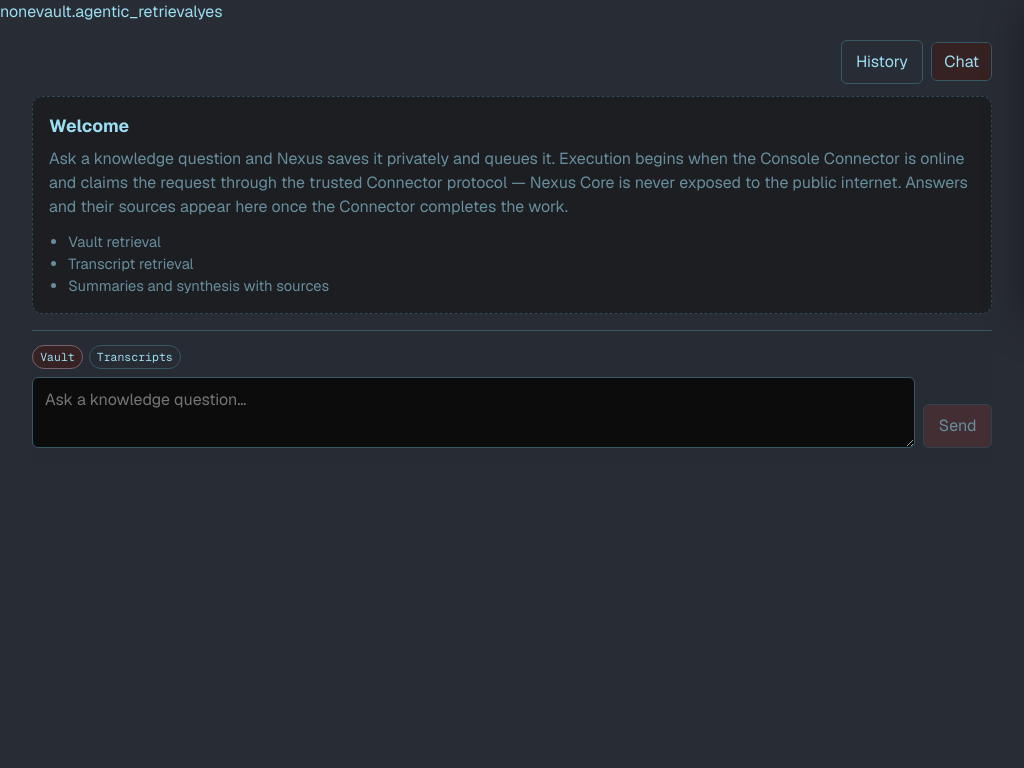
Scenario: Nexus Chat session selection persistence › updates persistence when the user selects another conversation or tool
Expected: the text with test id "ready" reads "yes", 197,1 -> 222,22
Click the button "History".
click(882, 62)  # box 840,40 -> 923,84
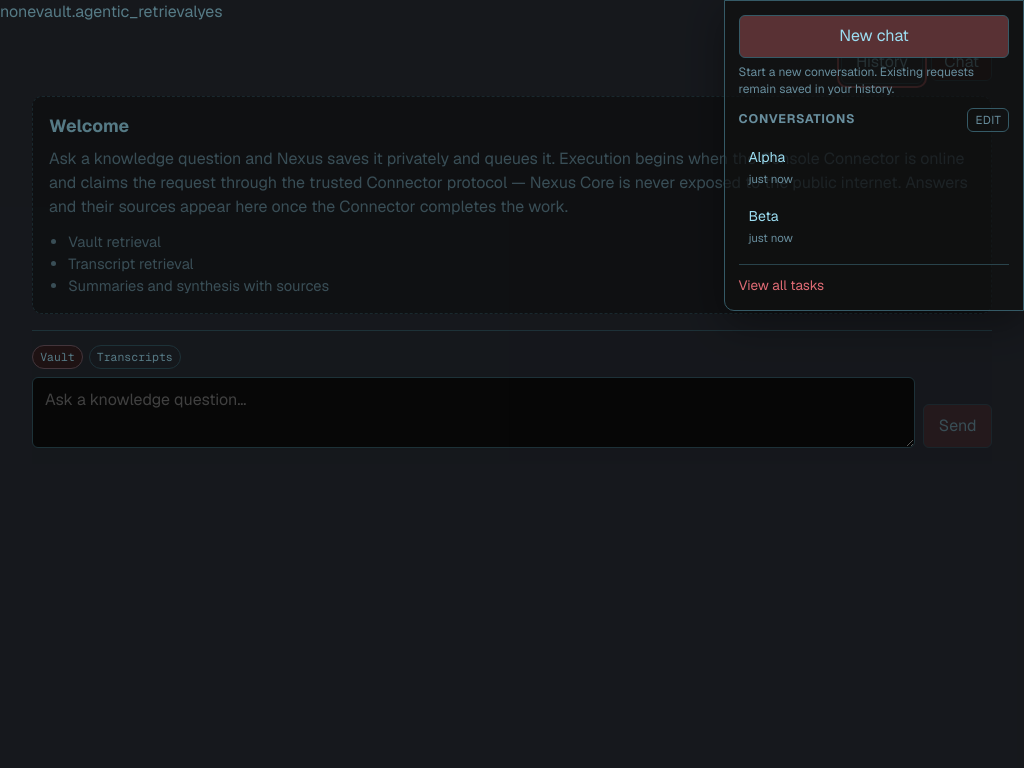
Click the button "Beta just now".
click(763, 216)  # box 739,199 -> 1009,253
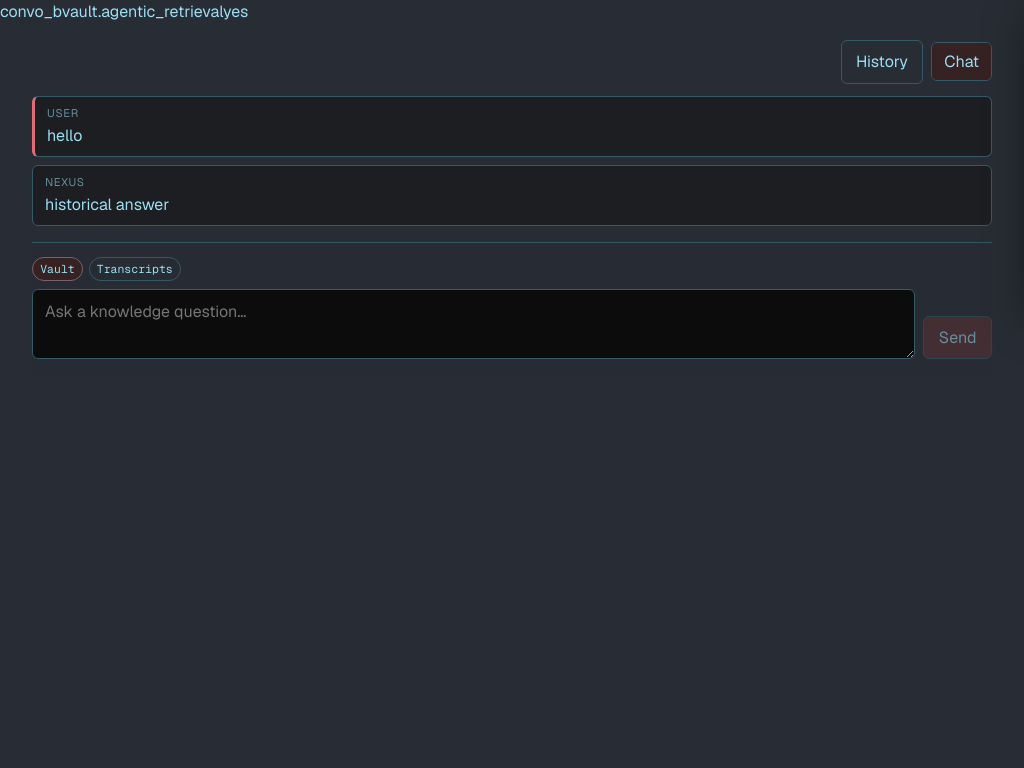
Expected: the text "convo_b" is shown, 0,1 -> 62,22
Click the button "Transcripts".
click(135, 269)  # box 88,257 -> 181,281
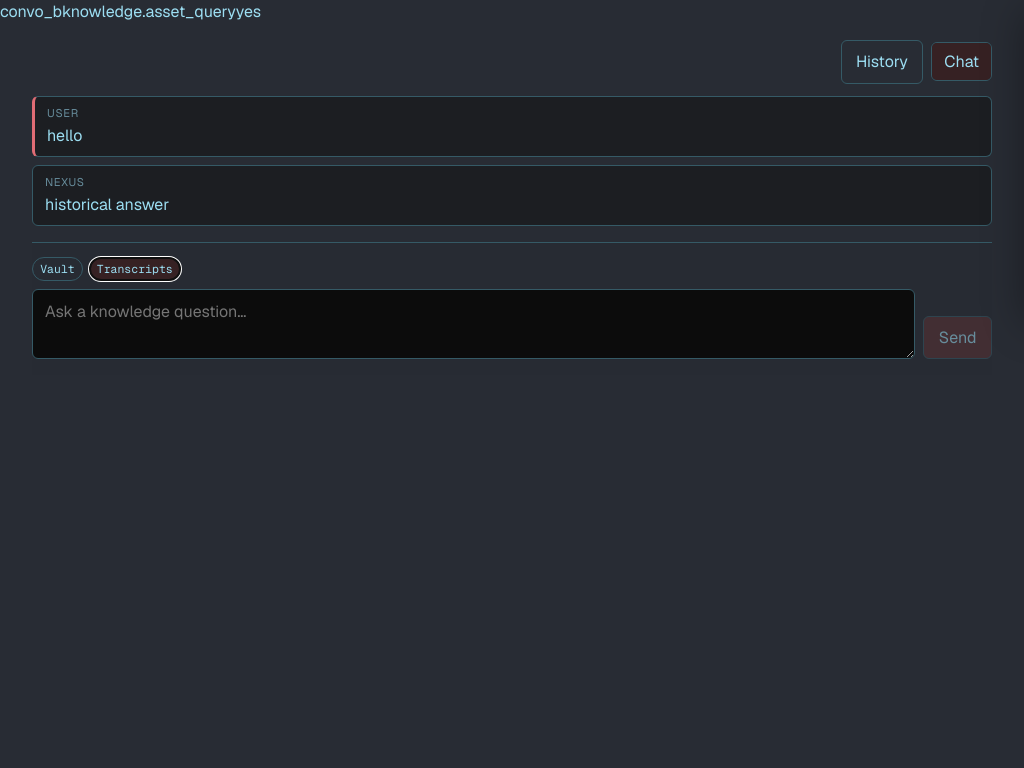
Expected: the text "knowledge.asset_query" is shown, 62,1 -> 236,22
